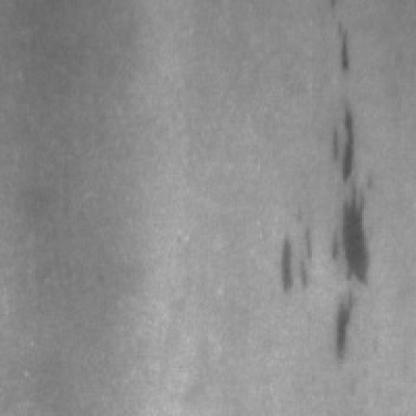inclusion: (327, 189, 372, 291), (270, 222, 318, 302), (322, 291, 358, 368), (326, 104, 356, 191), (324, 19, 358, 92)
